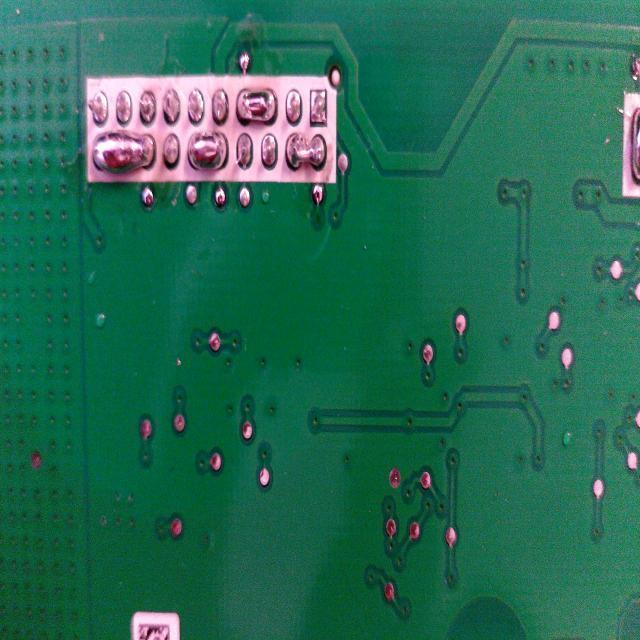Soldering shorted: (90, 130, 154, 178), (233, 82, 280, 126), (183, 131, 229, 175), (286, 132, 328, 170)
